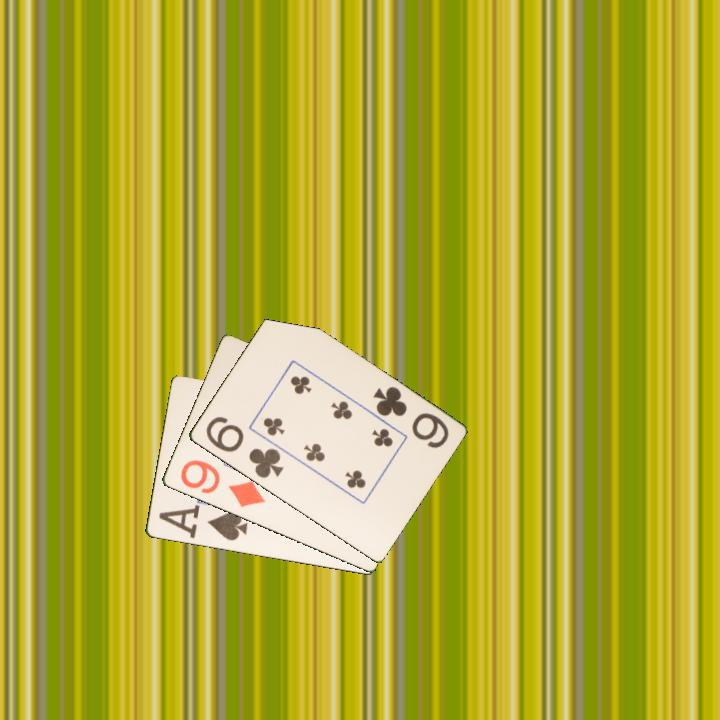6c: (202, 413, 286, 481), (369, 383, 451, 452)
9d: (176, 456, 268, 511)
As: (164, 508, 250, 544)
